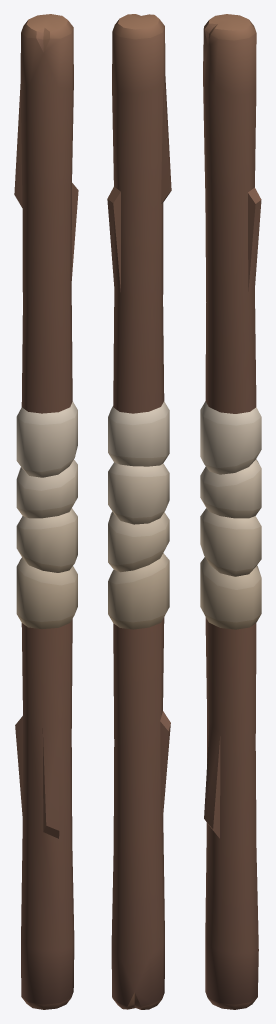
Rendered from staff_A.glb.
3 renders of one model, left to right at view 1: azimuth 30°, elevation 25°; view 2: azimuth 210°, elevation 25°; view 3: azimuth 330°, elevation 25°, orthographic.
Visible parts, largest first — view 1: staff_A; view 2: staff_A; view 3: staff_A.
Boxes of the visible parts, x1,y1,x2,y2 form: staff_A: [14, 14, 78, 1009]; staff_A: [107, 14, 171, 1009]; staff_A: [200, 14, 261, 1009].
Bounding box in the file's own units: 0.1249 × 2.15 × 0.1115.
Materials: 1 (1 with a texture image).
